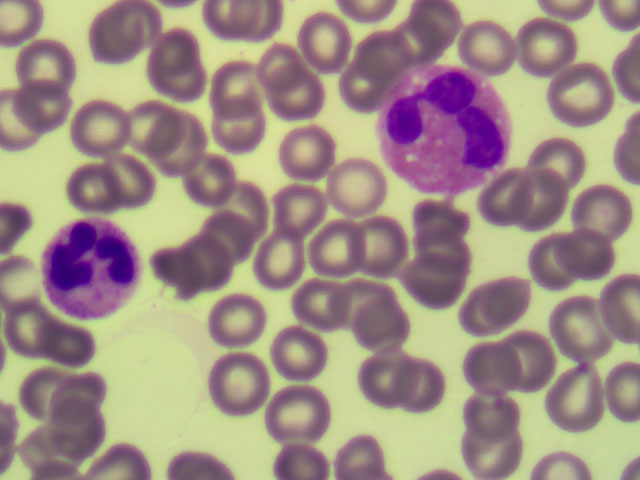RBC: (20, 419, 79, 480), (98, 419, 157, 480), (278, 419, 337, 480), (327, 419, 386, 480), (458, 419, 517, 480), (17, 36, 76, 96), (19, 72, 78, 132), (65, 96, 124, 156), (108, 93, 167, 153), (151, 111, 210, 171), (105, 145, 164, 205), (70, 155, 129, 215), (43, 311, 102, 371), (4, 297, 63, 357), (21, 354, 80, 414), (56, 355, 115, 415), (46, 405, 105, 465), (206, 344, 265, 404), (206, 288, 265, 348), (159, 242, 218, 302), (177, 220, 236, 280), (209, 187, 268, 247), (211, 173, 270, 233), (177, 148, 236, 208), (213, 96, 272, 156), (204, 49, 263, 109), (253, 29, 312, 89), (270, 60, 329, 120), (276, 120, 335, 180), (323, 156, 382, 216), (276, 179, 335, 239), (249, 231, 308, 291), (309, 220, 368, 280), (364, 219, 423, 279), (291, 276, 350, 336), (270, 312, 329, 372), (261, 374, 320, 434), (360, 344, 419, 404), (387, 354, 446, 414), (358, 298, 417, 358), (343, 274, 402, 334), (403, 250, 462, 310), (415, 216, 474, 276), (409, 190, 468, 250), (476, 168, 535, 228), (513, 162, 572, 222), (529, 130, 588, 190), (554, 56, 613, 116), (519, 23, 578, 83), (467, 25, 526, 85), (420, 4, 479, 64), (394, 21, 453, 81), (348, 27, 407, 87), (321, 63, 380, 123), (302, 14, 361, 74), (581, 180, 640, 240), (566, 233, 625, 293), (540, 232, 599, 292), (479, 277, 538, 337), (454, 290, 513, 350), (467, 346, 526, 406), (510, 317, 569, 377), (549, 304, 608, 364), (581, 277, 640, 337), (550, 371, 609, 431), (466, 385, 525, 445), (146, 50, 205, 110), (180, 48, 239, 108), (82, 6, 141, 66), (137, 1, 196, 60), (207, 1, 266, 60), (1, 96, 59, 156), (1, 257, 59, 317)
WBC: (384, 70, 505, 189), (44, 215, 137, 319)
